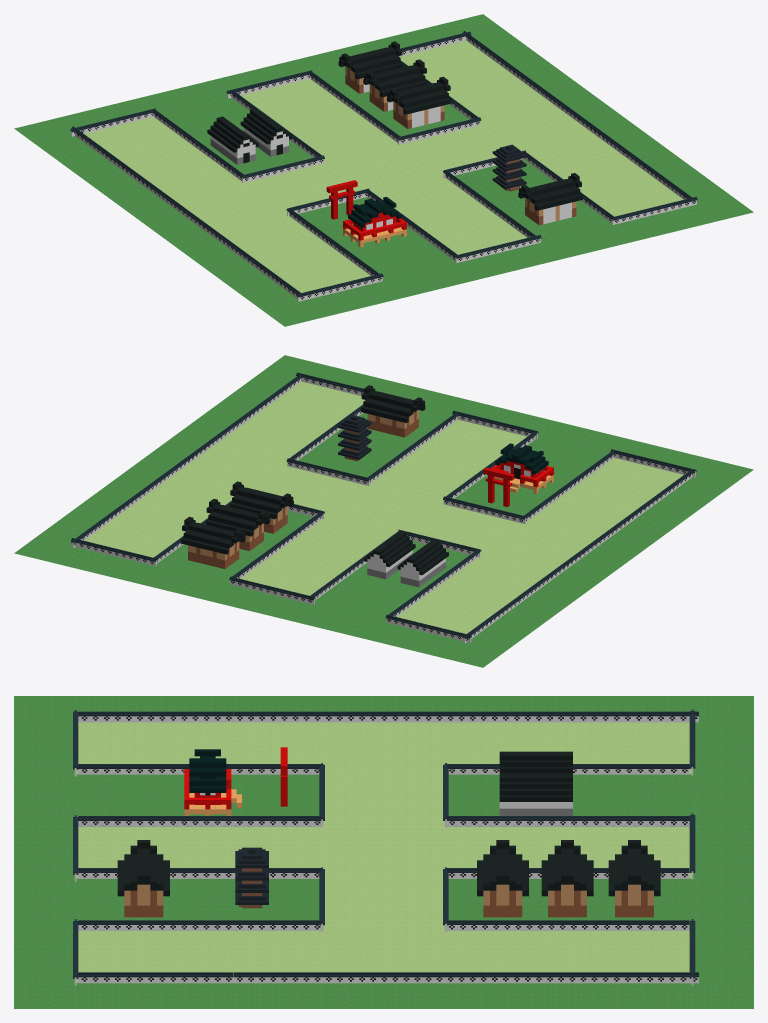
The model's file is Map14.fbx.
3 views of the same model, one above another, from view 1: azimuth 30°, elevation 25°; view 2: azimuth 150°, elevation 25°; view 3: azimuth 270°, elevation 25° (orthographic). The views are drawn at different scales.
Parts seen in each view (by area): view 1: pPlane1, Wall69, House2, House5, Shrine, House4, House3, WareHouse, WareHouse1, pagoda, Torii; view 2: pPlane1, Wall69, House4, House5, Shrine, House3, House2, WareHouse, WareHouse1, pagoda, Torii; view 3: pPlane1, Wall69, House5, House3, House4, House2, WareHouse1, Shrine, pagoda, WareHouse.
Boxes of the visible parts, left/top/right/bottom form: pPlane1: left=14, top=14, right=753, bottom=326; Wall69: left=70, top=31, right=697, bottom=301; House2: left=387, top=76, right=451, bottom=128; House5: left=518, top=173, right=582, bottom=225; Shrine: left=343, top=196, right=406, bottom=247; House4: left=338, top=41, right=402, bottom=93; House3: left=363, top=59, right=427, bottom=111; WareHouse: left=207, top=116, right=258, bottom=164; WareHouse1: left=240, top=108, right=292, bottom=156; pagoda: left=492, top=144, right=526, bottom=191; Torii: left=326, top=180, right=357, bottom=219; pPlane1: left=14, top=355, right=753, bottom=667; Wall69: left=71, top=372, right=696, bottom=643; House4: left=181, top=516, right=245, bottom=568; House5: left=361, top=385, right=425, bottom=437; Shrine: left=491, top=443, right=553, bottom=494; House3: left=206, top=499, right=270, bottom=550; House2: left=229, top=481, right=293, bottom=533; WareHouse: left=397, top=539, right=448, bottom=587; WareHouse1: left=364, top=531, right=415, bottom=579; pagoda: left=338, top=415, right=371, bottom=461; Torii: left=483, top=467, right=514, bottom=506; pPlane1: left=14, top=696, right=753, bottom=1008; Wall69: left=73, top=709, right=698, bottom=985; House5: left=117, top=840, right=169, bottom=917; House3: left=541, top=840, right=593, bottom=917; House4: left=608, top=840, right=660, bottom=917; House2: left=477, top=840, right=528, bottom=917; WareHouse1: left=499, top=774, right=572, bottom=815; Shrine: left=184, top=749, right=241, bottom=815; pagoda: left=235, top=847, right=268, bottom=908; WareHouse: left=499, top=751, right=572, bottom=773.
Bounding box in the file's own units: 60 × 4.93 × 60.
